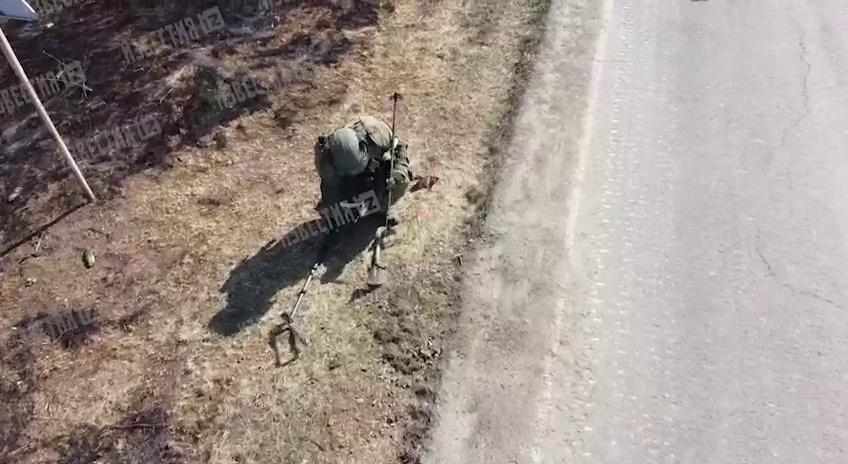person: (316, 114, 411, 243)
